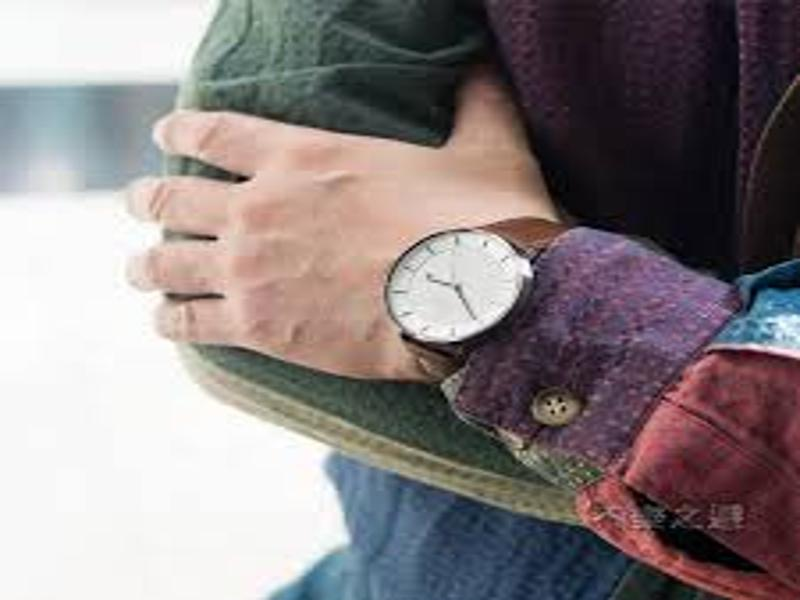watch: (380, 209, 593, 380)
